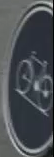bike lane: (7, 3, 51, 151)
